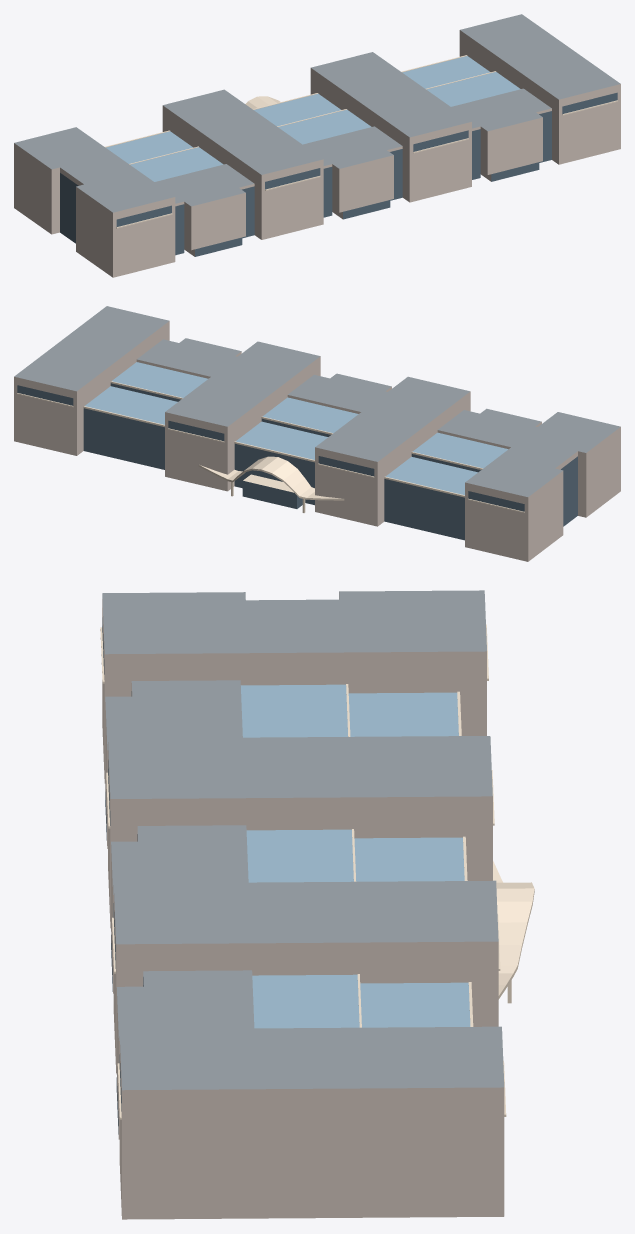
3 renders of one model, top to bottom at view 1: azimuth 30°, elevation 25°; view 2: azimuth 150°, elevation 25°; view 3: azimuth 270°, elevation 25°, orthographic. The views are drawn at different scales.
Visible parts, largest first — view 1: national-air-and-space-museum; view 2: national-air-and-space-museum; view 3: national-air-and-space-museum.
Part boxes in pixels (x1,y1,x2,y2): national-air-and-space-museum: (14, 14, 620, 277); national-air-and-space-museum: (14, 306, 620, 561); national-air-and-space-museum: (100, 590, 534, 1219).
Bounding box in the file's own units: 210 × 25.3 × 76.96.
